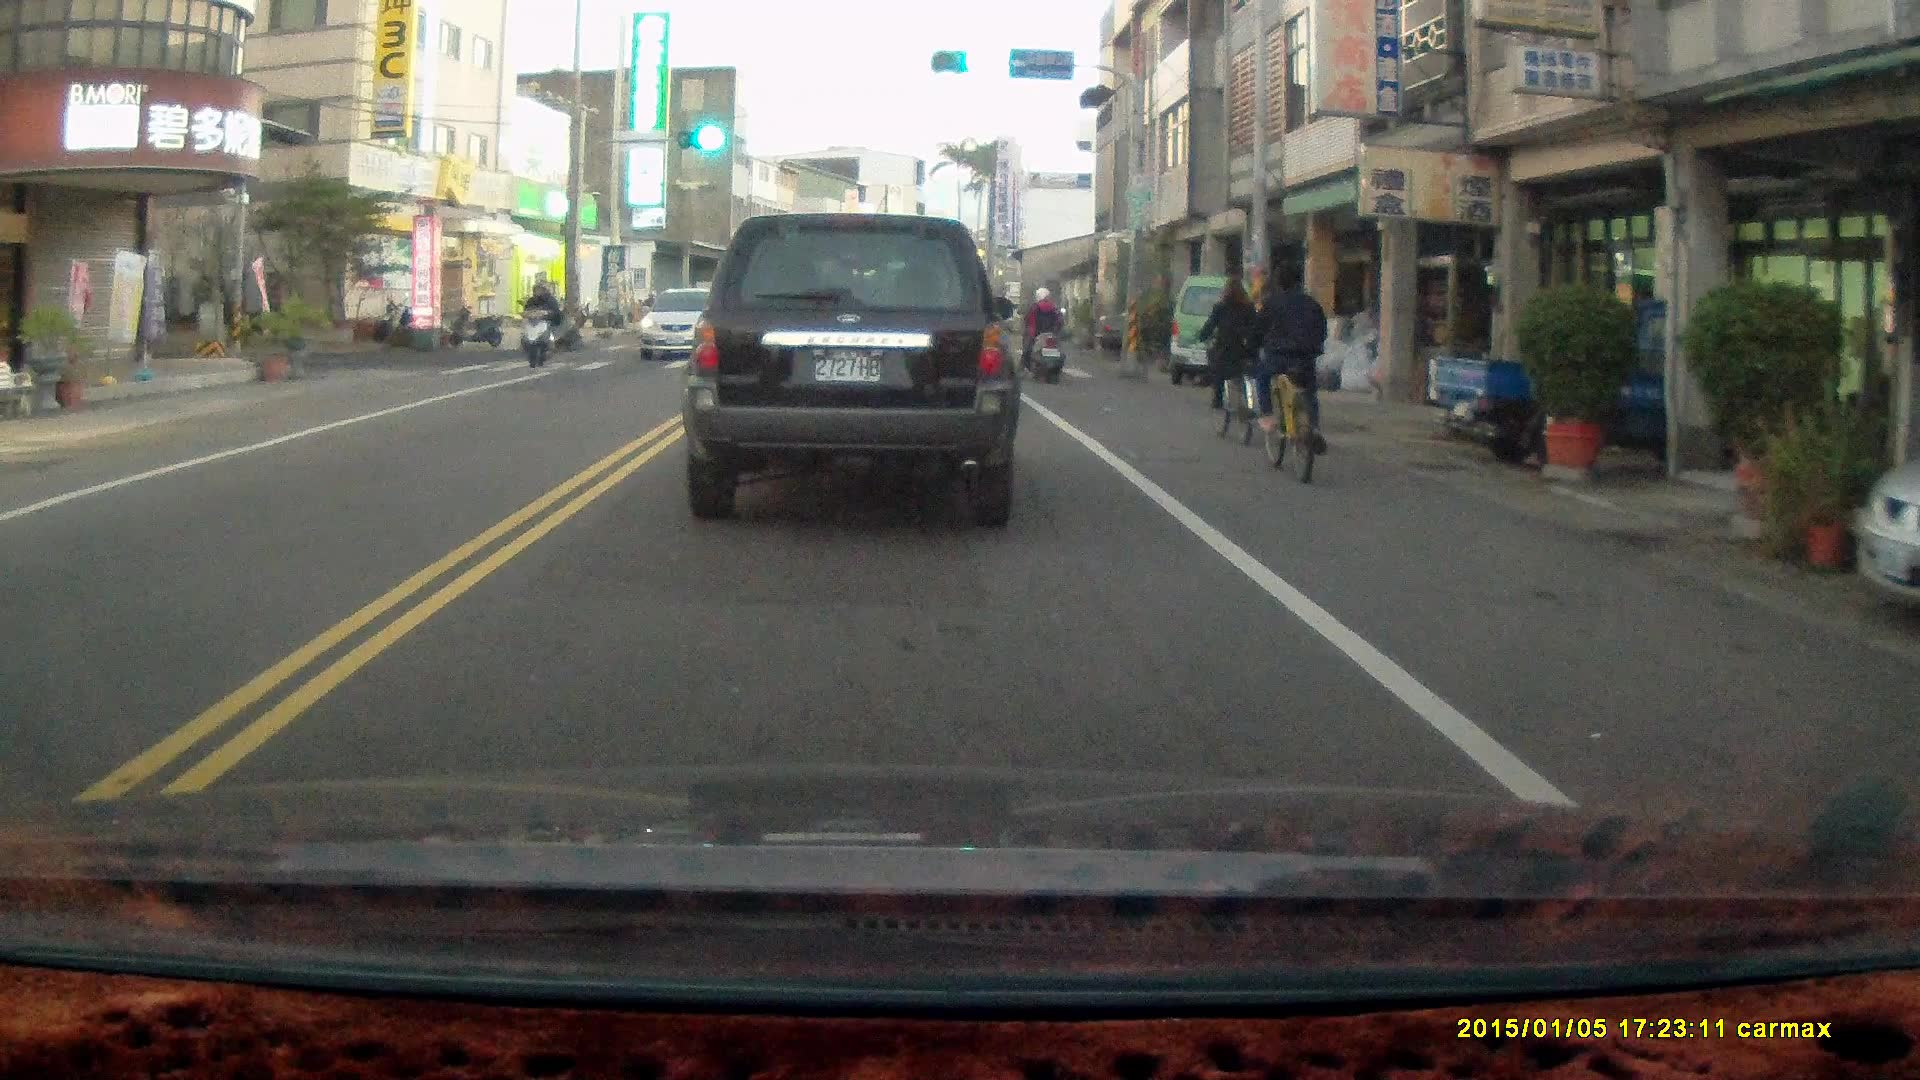rider: (1238, 257, 1326, 483), (1197, 276, 1259, 440), (1016, 282, 1068, 383), (517, 276, 558, 368), (520, 287, 576, 350)
vehicle: (680, 210, 1024, 522), (1170, 277, 1275, 381), (1851, 459, 1920, 614), (643, 286, 732, 361)
